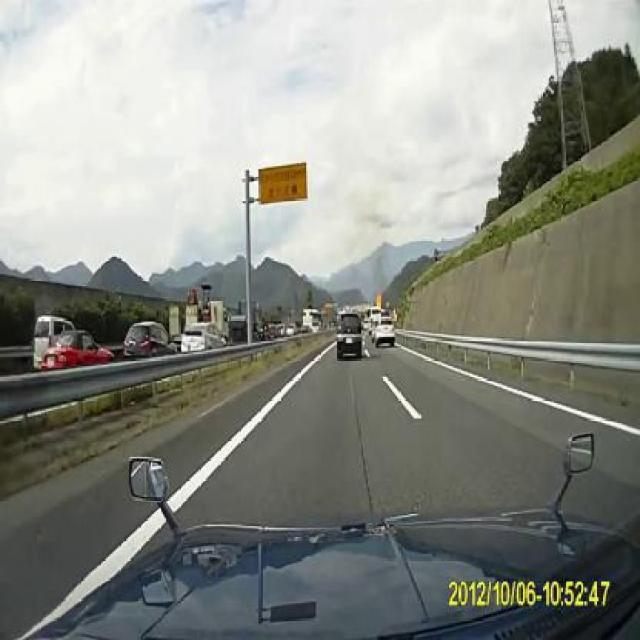Fire: (373, 295, 383, 308)
